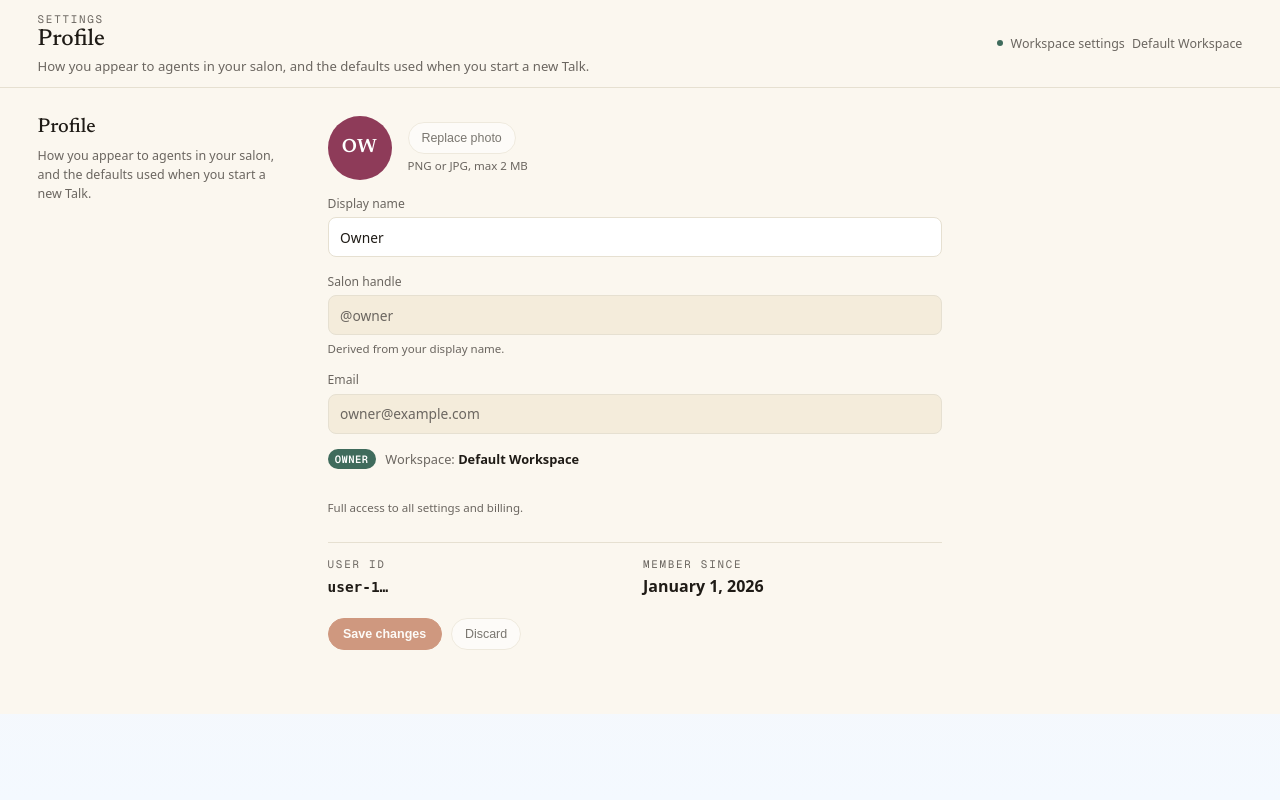
Test: SettingsPage › saves Profile display-name changes through the session API
Check: the heading "Profile" in the row of "Workspace settings" is shown, box [38,28,105,51]
Step 1. Replace the text in the field labelled "Display name" with "Owner Renamed" → (635, 237), box [328,217,942,258]
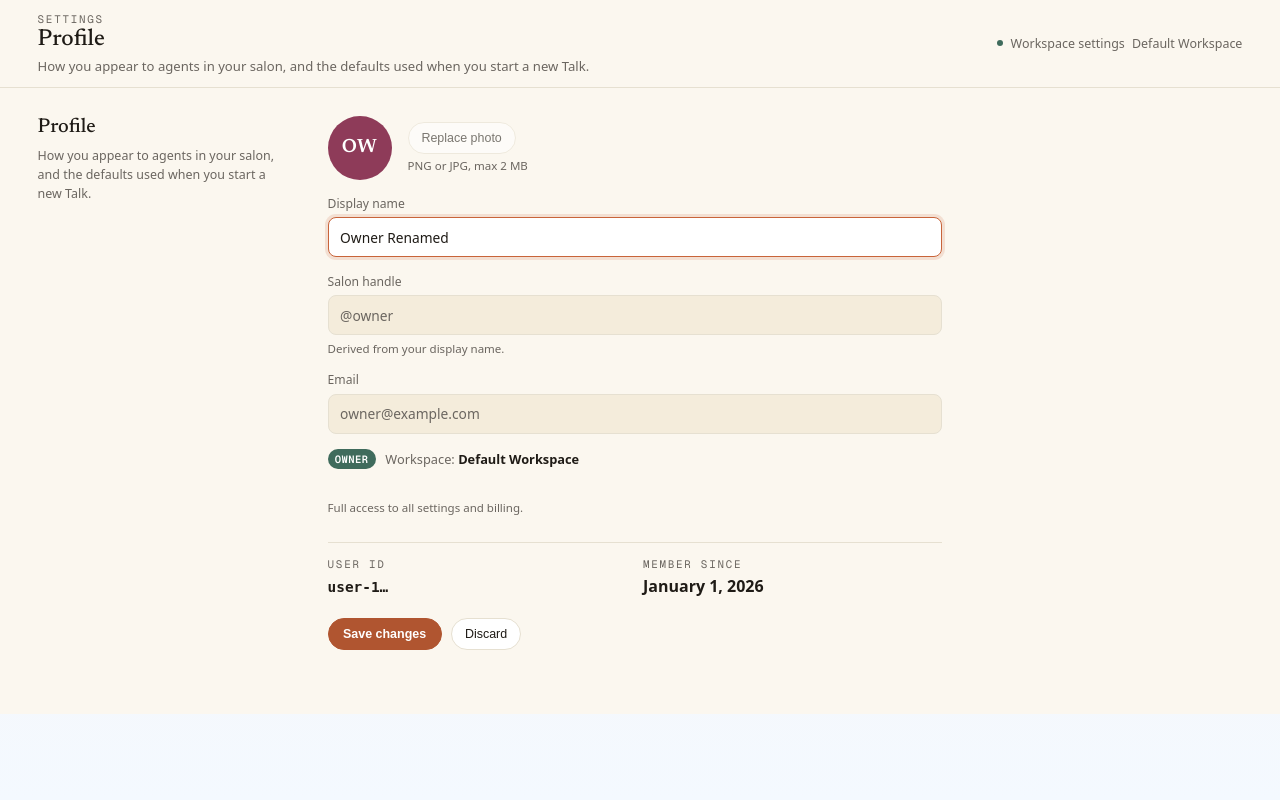
Step 2. Click the button "Save changes" → (385, 634), box [328,618,442,650]
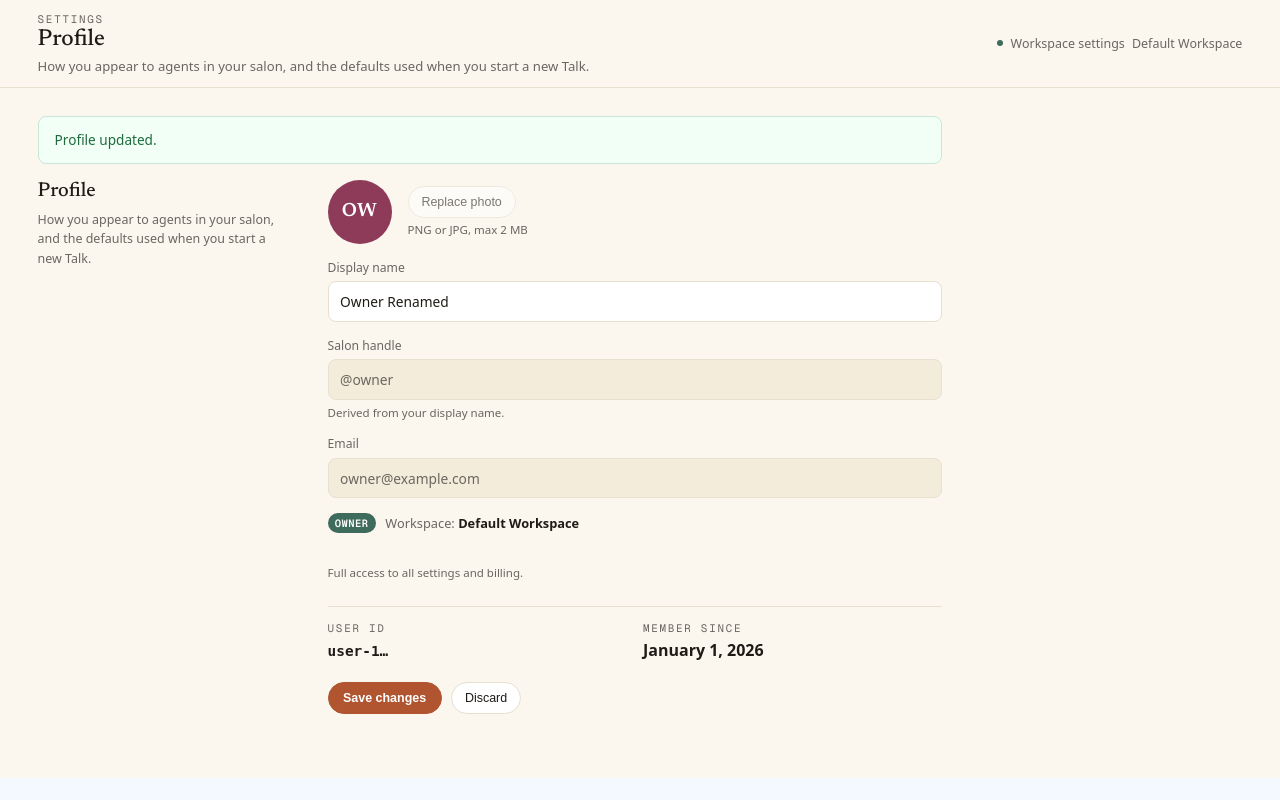
Check: the text "Profile updated." is shown, box [38,116,942,164]
